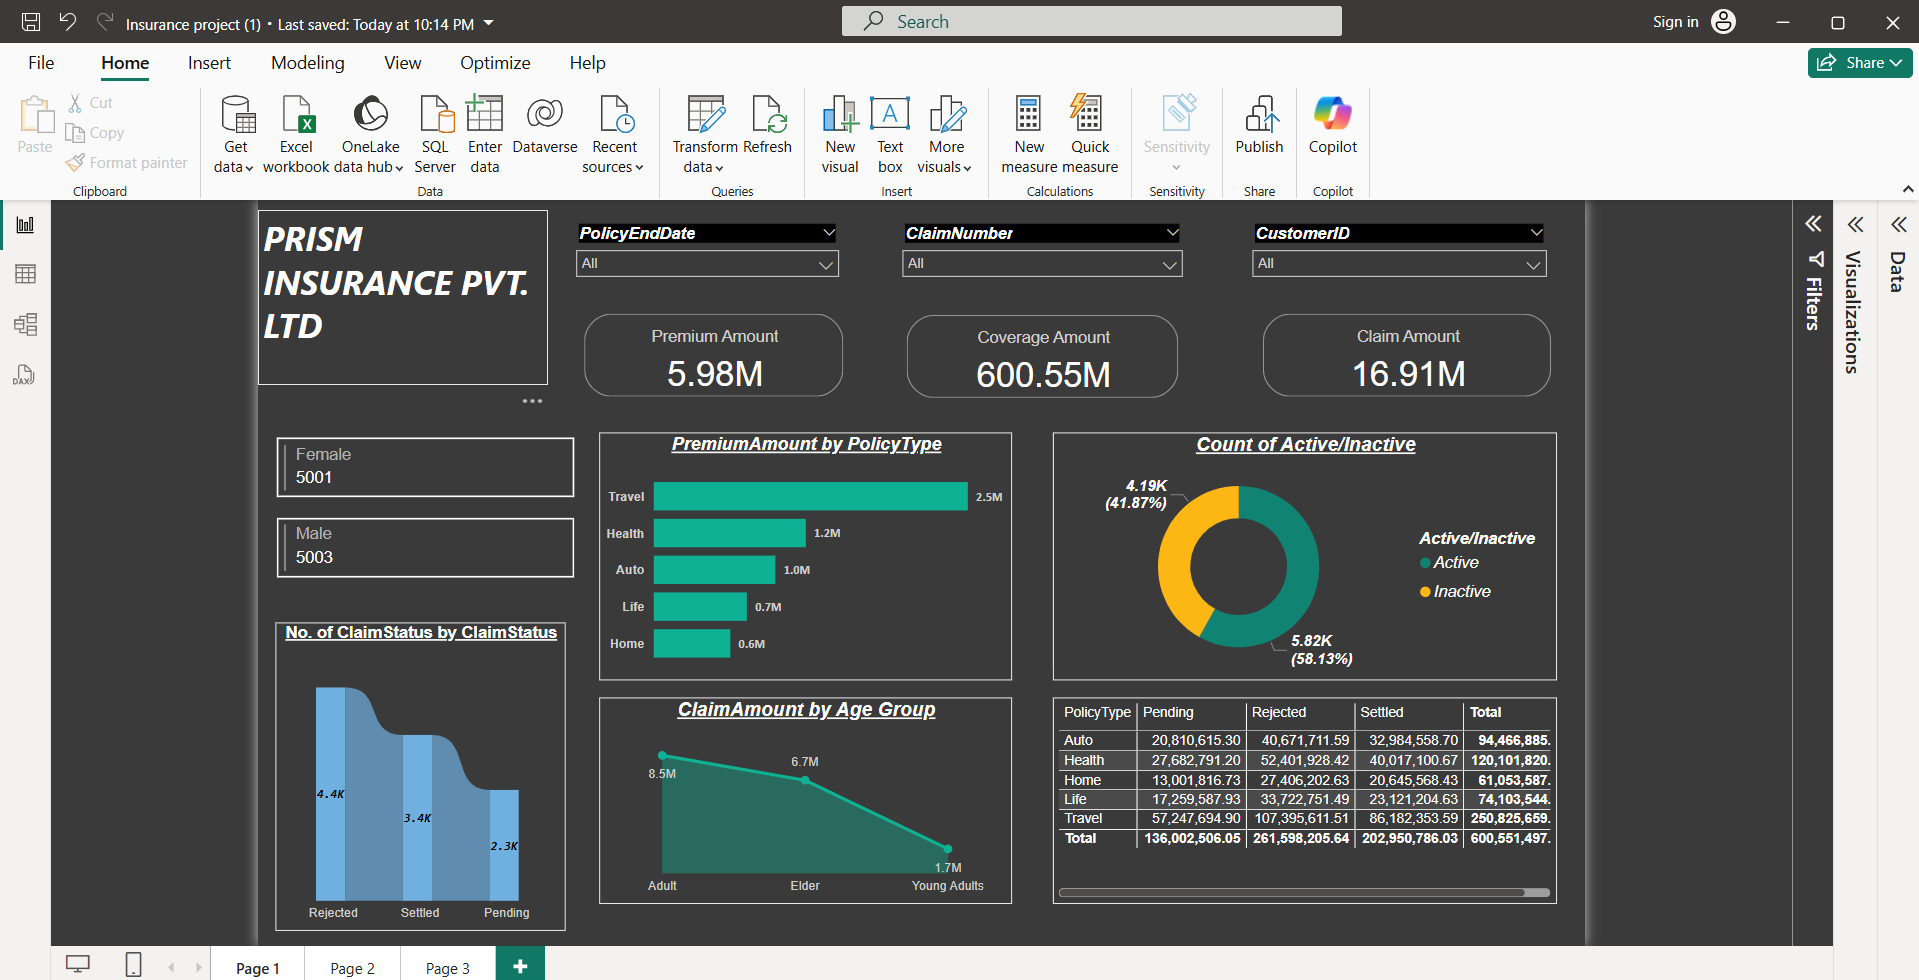

This screenshot's page, from the dashboard's own definition file:
{"tool":"powerbi","page":{"name":"Page 1","canvas":[1280,720],"ordinal":0},"visuals":[{"type":"slicer","fields":{"Values":["InsuranceData.PolicyEndDate"]},"box":[296.8,18.1,273.9,86.9],"z":0},{"type":"slicer","fields":{"Values":["InsuranceData.ClaimNumber"]},"box":[611.7,18.1,290.8,86.9],"z":1000},{"type":"slicer","fields":{"Values":["InsuranceData.CustomerID"]},"box":[949.5,18.1,304,86.9],"z":2000},{"type":"textbox","box":[0,9.7,279.9,168.9],"z":3000},{"type":"cardVisual","fields":{"Data":["Sum(InsuranceData.PremiumAmount)"]},"box":[310.1,105,260.6,90.5],"z":4000},{"type":"cardVisual","fields":{"Data":["Sum(InsuranceData.CoverageAmount)"]},"box":[621.3,106.2,272.7,90.5],"z":5000},{"type":"cardVisual","fields":{"Data":["Sum(InsuranceData.ClaimAmount)"]},"box":[965.2,105,288.3,90.5],"z":6000},{"type":"multiRowCard","fields":{"Values":["InsuranceData.Gender","CountNonNull(InsuranceData.Gender)"]},"box":[13.3,224.4,296.8,170.1],"z":7000},{"type":"ribbonChart","title":"No. of ClaimStatus by ClaimStatus","fields":{"Category":["InsuranceData.ClaimStatus"],"Y":["CountNonNull(InsuranceData.ClaimStatus)"]},"box":[16.9,407.8,279.9,298],"z":8000},{"type":"barChart","title":"PremiumAmount by PolicyType","fields":{"Category":["InsuranceData.PolicyType"],"Y":["Sum(InsuranceData.PremiumAmount)"]},"box":[329.4,224.4,398.1,238.9],"z":9000},{"type":"lineChart","title":"ClaimAmount by Age Group","fields":{"Category":["InsuranceData.Age Group"],"Y":["Sum(InsuranceData.ClaimAmount)"]},"box":[329.4,480.2,398.1,199.1],"z":10000},{"type":"donutChart","title":"Count of Active/Inactive ","fields":{"Category":["InsuranceData.Active/Inactive"],"Y":["CountNonNull(InsuranceData.Active/Inactive)"]},"box":[767.3,224.4,486.2,238.9],"z":11000},{"type":"pivotTable","fields":{"Values":["Sum(InsuranceData.CoverageAmount)"],"Rows":["InsuranceData.PolicyType"],"Columns":["InsuranceData.ClaimStatus"]},"box":[767,480,486,199],"z":12000}]}

Visuals, with their boxes on the page's 1280x720 design canvas (x1, y1, x2, y2). These are canvas units, not pixel positions in the 1919x980 screenshot, which may show the page scaled, cropped or inside an application window:
slicer - InsuranceData.PolicyEndDate: (left=297, top=18, right=571, bottom=105)
slicer - InsuranceData.ClaimNumber: (left=612, top=18, right=902, bottom=105)
slicer - InsuranceData.CustomerID: (left=950, top=18, right=1254, bottom=105)
textbox: (left=0, top=10, right=280, bottom=179)
cardVisual - Sum(InsuranceData.PremiumAmount): (left=310, top=105, right=571, bottom=196)
cardVisual - Sum(InsuranceData.CoverageAmount): (left=621, top=106, right=894, bottom=197)
cardVisual - Sum(InsuranceData.ClaimAmount): (left=965, top=105, right=1254, bottom=196)
multiRowCard - InsuranceData.Gender x CountNonNull(InsuranceData.Gender): (left=13, top=224, right=310, bottom=394)
"No. of ClaimStatus by ClaimStatus" ribbonChart: (left=17, top=408, right=297, bottom=706)
"PremiumAmount by PolicyType" barChart: (left=329, top=224, right=728, bottom=463)
"ClaimAmount by Age Group" lineChart: (left=329, top=480, right=728, bottom=679)
"Count of Active/Inactive " donutChart: (left=767, top=224, right=1254, bottom=463)
pivotTable - Sum(InsuranceData.CoverageAmount) x InsuranceData.PolicyType: (left=767, top=480, right=1253, bottom=679)
